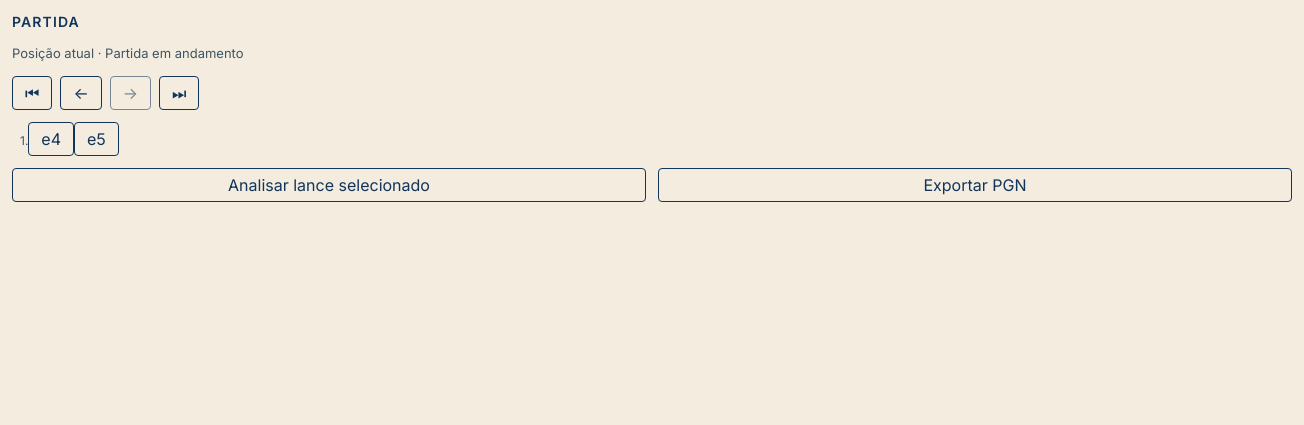
Scenario: análise explícita controla duplicatas e apresenta dados estruturados
Click the button "Analisar lance selecionado" at coordinates (329, 185), box [12,168,646,202]
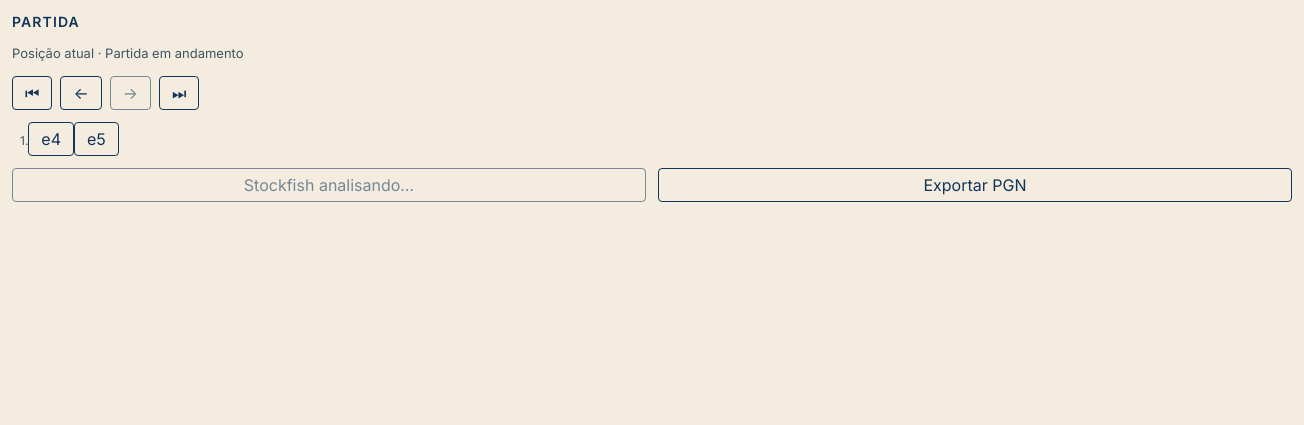
Click the button "Analisar lance selecionado" at coordinates (329, 185), box [12,168,646,202]
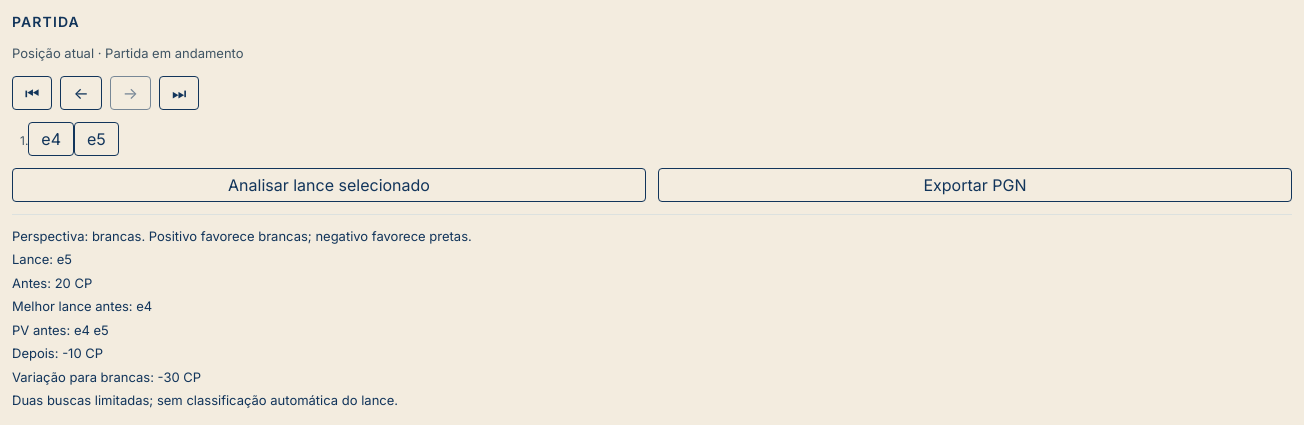
Expected: the text "Antes: 20 CP" is shown, [12,275,92,291]
Expected: the text "Depois: -10 CP" is shown, [12,345,103,361]
Expected: the text "PV antes: e4 e5" is shown, [12,322,109,338]
